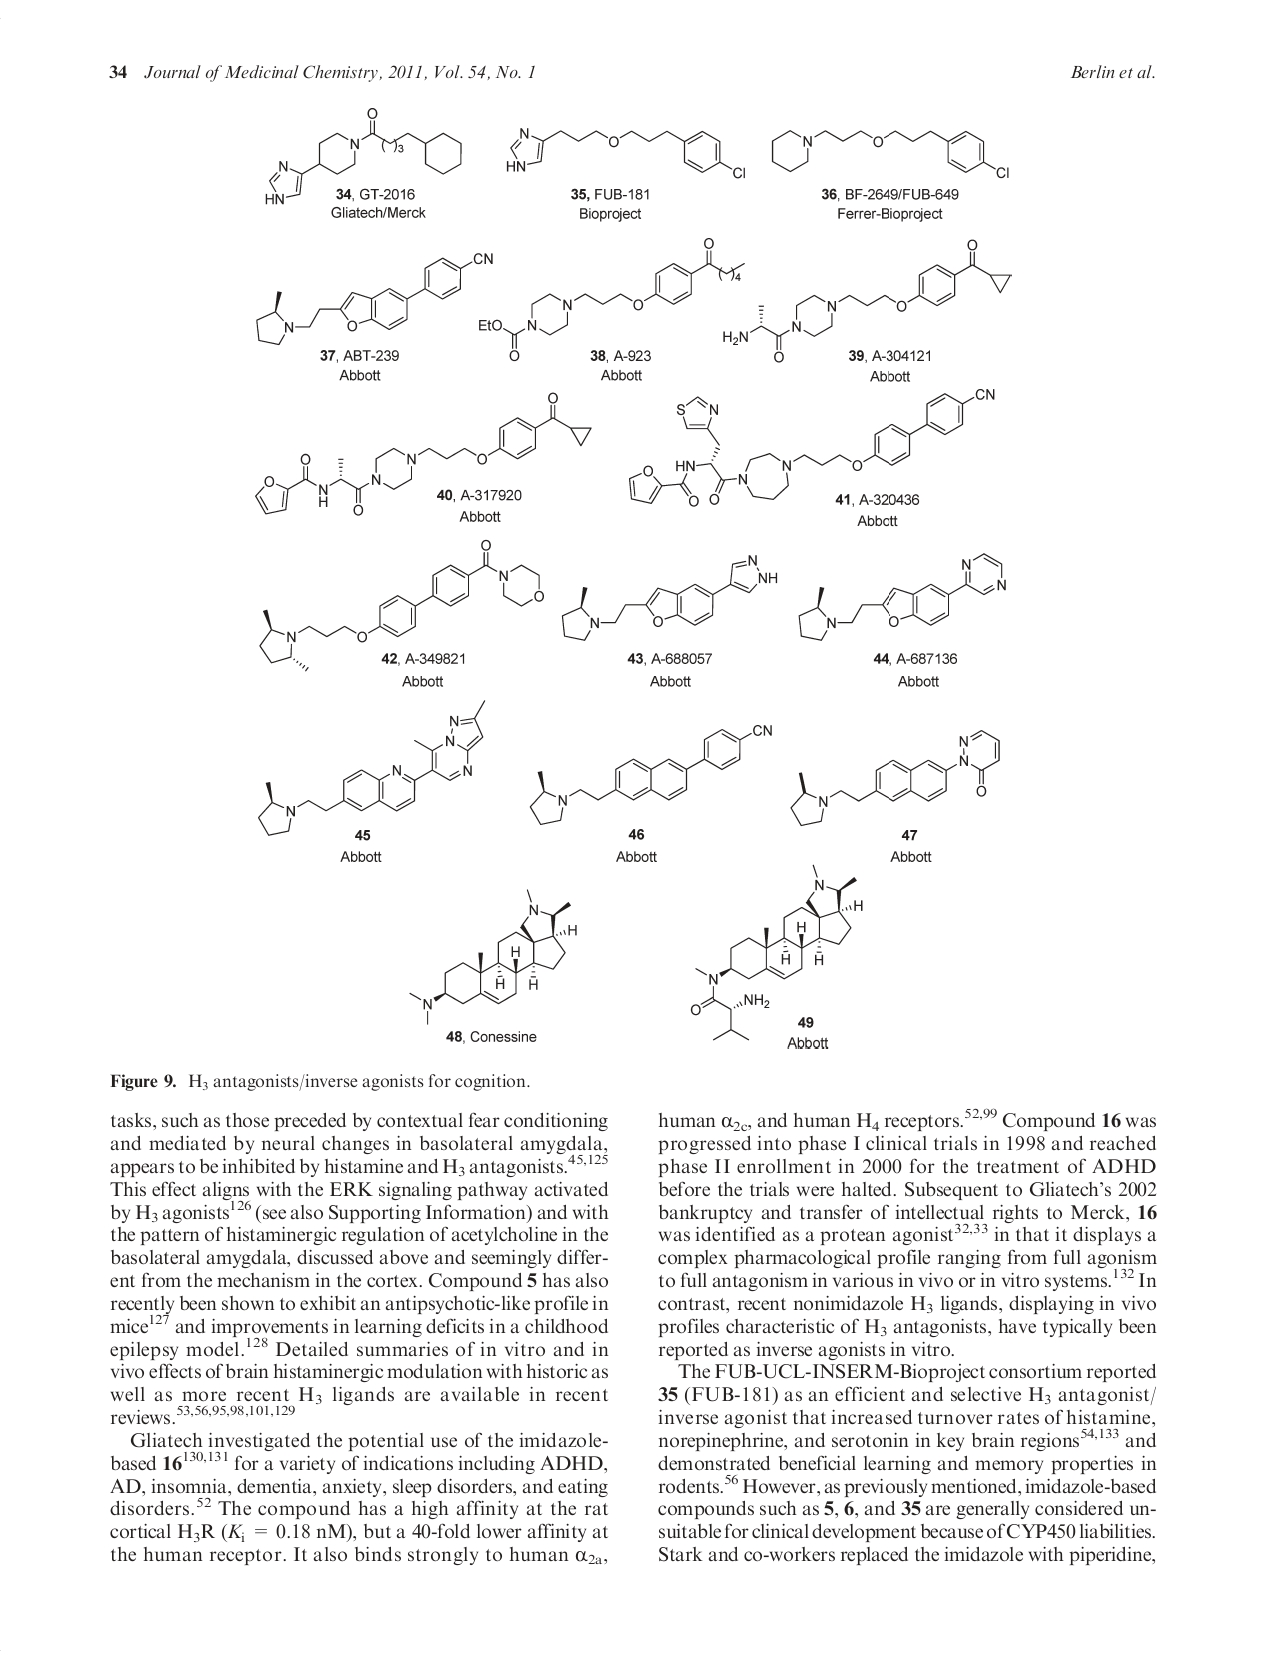exist_molecular: (251, 391, 594, 529), (626, 388, 997, 509), (257, 539, 545, 673), (721, 235, 1015, 367), (477, 235, 747, 364), (688, 862, 864, 1043), (257, 700, 487, 838), (528, 721, 774, 827), (406, 887, 580, 1027), (253, 250, 493, 350), (789, 727, 1003, 827), (261, 106, 465, 205), (559, 553, 779, 644), (797, 551, 1008, 642), (505, 122, 750, 184), (769, 126, 1013, 182)
